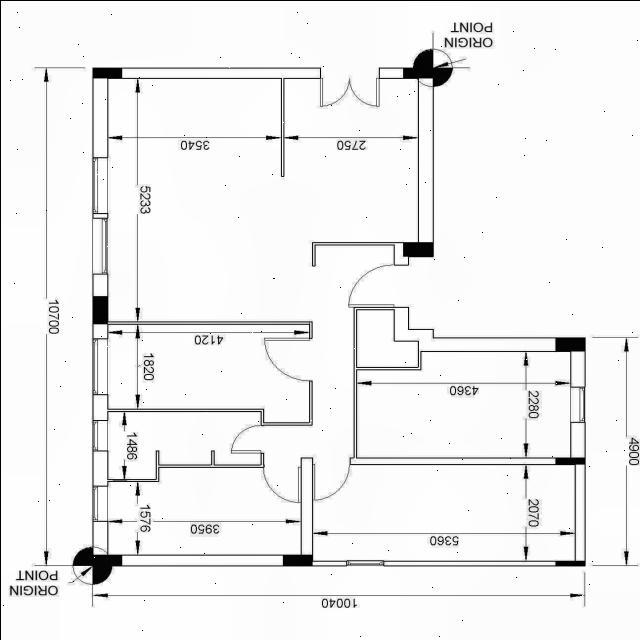Column: (91, 296, 108, 324), (554, 336, 584, 351), (402, 242, 432, 256), (92, 554, 122, 566), (402, 66, 432, 78), (282, 554, 312, 566), (92, 67, 122, 78), (554, 456, 584, 464), (554, 560, 584, 566)
Door: (346, 262, 410, 308), (262, 334, 314, 382), (308, 456, 352, 502), (261, 462, 302, 502), (229, 424, 264, 454)
Double-Door: (316, 65, 381, 106)
Window: (90, 154, 108, 214), (90, 337, 108, 395), (90, 216, 108, 274), (568, 384, 586, 424), (90, 484, 108, 522), (90, 418, 108, 452), (344, 558, 384, 566)
